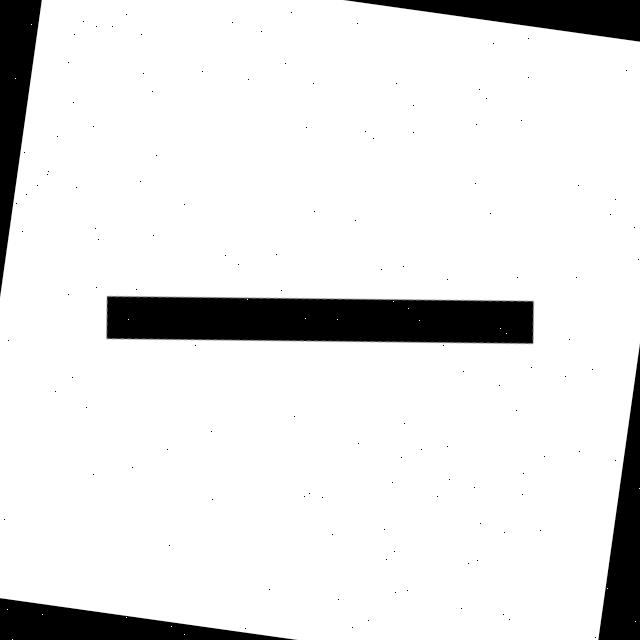line: (106, 296, 533, 344)
